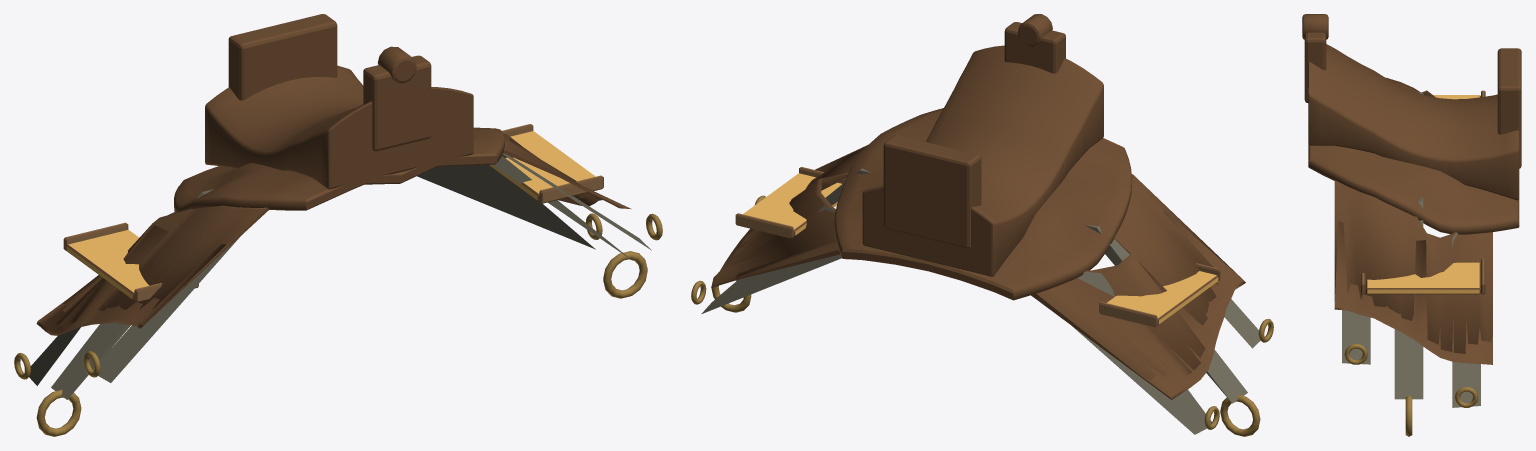
Rendered from saddle_appa.fbx.
3 views of the same model, side by side, from view 1: azimuth 30°, elevation 25°; view 2: azimuth 150°, elevation 25°; view 3: azimuth 270°, elevation 25° (orthographic). The views are drawn at different scales.
Parts seen in each view (by area): view 1: Mesh_SaddleSeat_Appa, Mesh_SaddleEnds_Appa, Mesh_SaddleSkirt_Appa_R, Mesh_SaddlePanel_Appa, Mesh_SaddleGear_Appa_L, Mesh_SaddleGear_Appa_R, Mesh_SaddlePannier_Appa_R, Mesh_SaddlePannier_Appa_L, Mesh_SaddleStirrup_Appa_R, Mesh_SaddleStirrup_Appa_L, Mesh_SaddleSkirt_Appa_L; view 2: Mesh_SaddleSeat_Appa, Mesh_SaddleSkirt_Appa_R, Mesh_SaddlePanel_Appa, Mesh_SaddleEnds_Appa, Mesh_SaddleSkirt_Appa_L, Mesh_SaddleGear_Appa_R, Mesh_SaddlePannier_Appa_R, Mesh_SaddlePannier_Appa_L, Mesh_SaddleStirrup_Appa_R, Mesh_SaddleGear_Appa_L, Mesh_SaddleStirrup_Appa_L; view 3: Mesh_SaddleSeat_Appa, Mesh_SaddleSkirt_Appa_L, Mesh_SaddlePanel_Appa, Mesh_SaddleEnds_Appa, Mesh_SaddlePannier_Appa_L, Mesh_SaddleGear_Appa_L, Mesh_SaddleStirrup_Appa_L.
Boxes of the visible parts, left/top/right/bottom form: Mesh_SaddleSeat_Appa: left=205, top=65, right=473, bottom=189; Mesh_SaddleEnds_Appa: left=228, top=14, right=431, bottom=151; Mesh_SaddleSkirt_Appa_R: left=36, top=205, right=269, bottom=335; Mesh_SaddlePanel_Appa: left=174, top=127, right=504, bottom=212; Mesh_SaddleGear_Appa_L: left=417, top=153, right=662, bottom=250; Mesh_SaddleGear_Appa_R: left=14, top=211, right=240, bottom=385; Mesh_SaddlePannier_Appa_R: left=63, top=222, right=198, bottom=302; Mesh_SaddlePannier_Appa_L: left=489, top=124, right=603, bottom=203; Mesh_SaddleStirrup_Appa_R: left=36, top=189, right=213, bottom=436; Mesh_SaddleStirrup_Appa_L: left=492, top=156, right=647, bottom=298; Mesh_SaddleSkirt_Appa_L: left=502, top=133, right=631, bottom=209; Mesh_SaddleSeat_Appa: left=862, top=45, right=1103, bottom=276; Mesh_SaddleSkirt_Appa_R: left=1031, top=174, right=1245, bottom=399; Mesh_SaddlePanel_Appa: left=834, top=108, right=1131, bottom=300; Mesh_SaddleEnds_Appa: left=883, top=14, right=1065, bottom=248; Mesh_SaddleSkirt_Appa_L: left=711, top=144, right=868, bottom=287; Mesh_SaddleGear_Appa_R: left=1072, top=271, right=1273, bottom=434; Mesh_SaddlePannier_Appa_R: left=1099, top=263, right=1220, bottom=327; Mesh_SaddlePannier_Appa_L: left=735, top=167, right=846, bottom=238; Mesh_SaddleStirrup_Appa_R: left=1084, top=225, right=1260, bottom=436; Mesh_SaddleGear_Appa_L: left=691, top=195, right=841, bottom=313; Mesh_SaddleStirrup_Appa_L: left=711, top=168, right=871, bottom=312; Mesh_SaddleSeat_Appa: left=1308, top=44, right=1519, bottom=200; Mesh_SaddleSkirt_Appa_L: left=1334, top=180, right=1492, bottom=364; Mesh_SaddlePanel_Appa: left=1308, top=77, right=1519, bottom=234; Mesh_SaddleEnds_Appa: left=1302, top=14, right=1521, bottom=168; Mesh_SaddlePannier_Appa_L: left=1361, top=258, right=1485, bottom=294; Mesh_SaddleGear_Appa_L: left=1342, top=232, right=1480, bottom=407; Mesh_SaddleStirrup_Appa_L: left=1394, top=197, right=1423, bottom=436.
Bounding box in the file's own units: 250 × 139 × 91.5.
